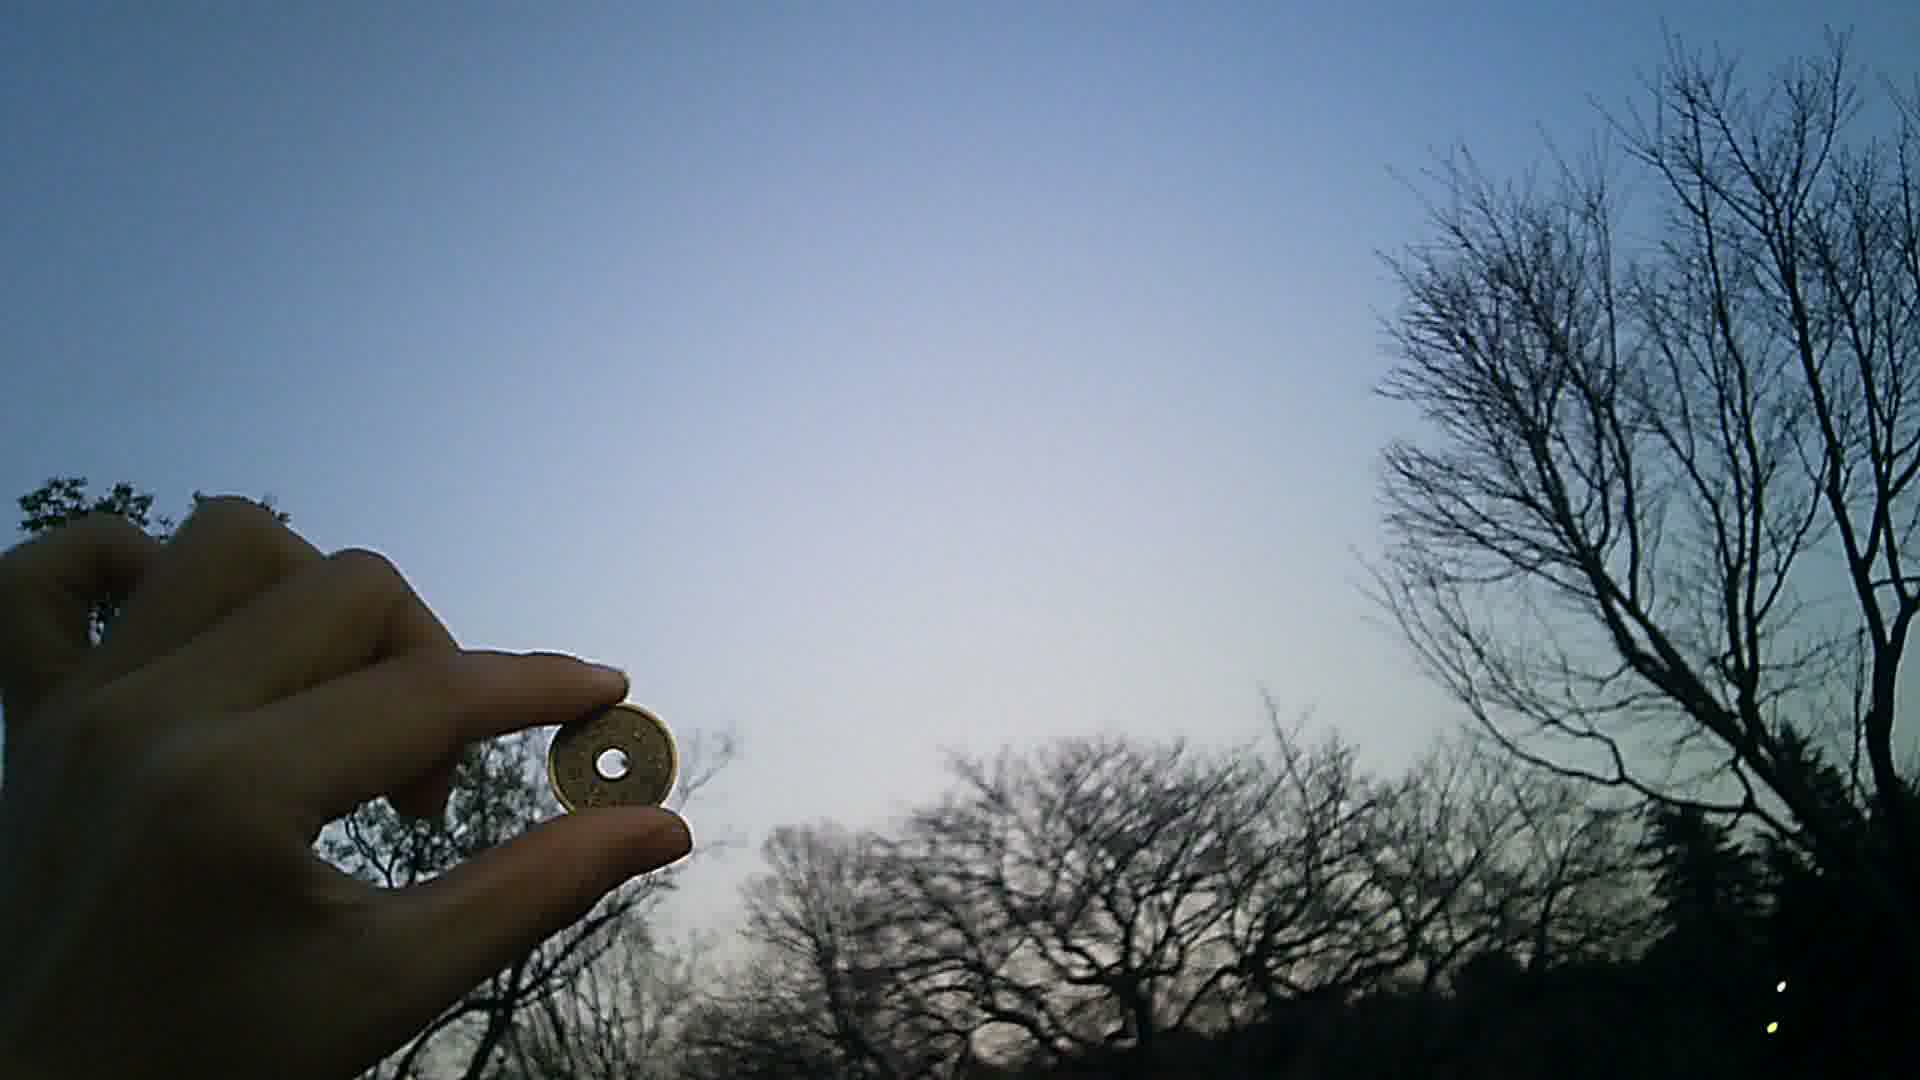5 Yen: (553, 704, 680, 822)
